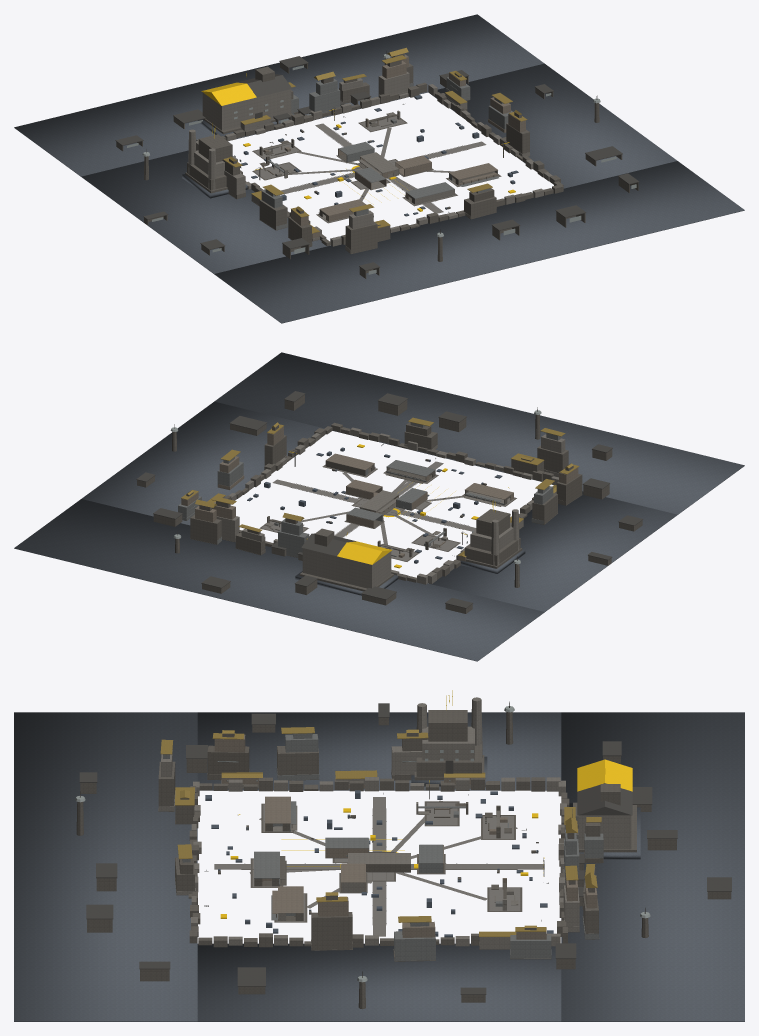
Rendered from kuko-lod1.glb.
3 views of the same model, one above another, from view 1: azimuth 30°, elevation 25°; view 2: azimuth 150°, elevation 25°; view 3: azimuth 270°, elevation 25° (orthographic). The views are drawn at different scales.
Parts seen in each view (by area): view 1: HB_kuko_LOD1_terrain, HB_kuko_LOD1_wall_alt, HB_kuko_LOD1_wall, HB_kuko_LOD1_wall_cool, HB_kuko_LOD1_wall_warm, HB_kuko_LOD1_road, HB_kuko_LOD1_trim, HB_kuko_LOD1_LANDMARK_0_wall, HB_kuko_LOD1_roof, HB_kuko_LOD1_LANDMARK_1_wall_alt, HB_kuko_LOD1_wall_weathered, HB_kuko_LOD1_LANDMARK_1_wall (+4 smaller); view 2: HB_kuko_LOD1_terrain, HB_kuko_LOD1_wall_alt, HB_kuko_LOD1_wall_cool, HB_kuko_LOD1_wall, HB_kuko_LOD1_wall_warm, HB_kuko_LOD1_trim, HB_kuko_LOD1_road, HB_kuko_LOD1_LANDMARK_0_wall, HB_kuko_LOD1_wall_weathered, HB_kuko_LOD1_roof, HB_kuko_LOD1_LANDMARK_1_wall_alt, HB_kuko_LOD1_LANDMARK_1_wall (+4 smaller); view 3: HB_kuko_LOD1_terrain, HB_kuko_LOD1_wall_alt, HB_kuko_LOD1_wall, HB_kuko_LOD1_wall_cool, HB_kuko_LOD1_road, HB_kuko_LOD1_trim, HB_kuko_LOD1_wall_warm, HB_kuko_LOD1_roof, HB_kuko_LOD1_wall_weathered, HB_kuko_LOD1_LANDMARK_1_wall_alt, HB_kuko_LOD1_LANDMARK_1_wall, HB_kuko_LOD1_LANDMARK_0_wall (+4 smaller).
Part boxes in pixels (<box>): HB_kuko_LOD1_terrain: <box>14,14,744,323</box>; HB_kuko_LOD1_wall_alt: <box>116,53,638,278</box>; HB_kuko_LOD1_wall: <box>196,71,552,253</box>; HB_kuko_LOD1_wall_cool: <box>261,77,512,230</box>; HB_kuko_LOD1_wall_warm: <box>261,54,525,240</box>; HB_kuko_LOD1_road: <box>252,116,501,222</box>; HB_kuko_LOD1_trim: <box>115,51,639,270</box>; HB_kuko_LOD1_LANDMARK_0_wall: <box>202,89,291,130</box>; HB_kuko_LOD1_roof: <box>223,47,527,233</box>; HB_kuko_LOD1_LANDMARK_1_wall_alt: <box>185,134,242,193</box>; HB_kuko_LOD1_wall_weathered: <box>259,76,494,242</box>; HB_kuko_LOD1_LANDMARK_1_wall: <box>188,129,237,189</box>; HB_kuko_LOD1_terrain: <box>14,352,744,661</box>; HB_kuko_LOD1_wall_alt: <box>137,394,642,613</box>; HB_kuko_LOD1_wall_cool: <box>178,422,560,557</box>; HB_kuko_LOD1_wall: <box>216,427,565,584</box>; HB_kuko_LOD1_wall_warm: <box>181,426,578,561</box>; HB_kuko_LOD1_trim: <box>136,391,643,608</box>; HB_kuko_LOD1_road: <box>259,461,516,561</box>; HB_kuko_LOD1_LANDMARK_0_wall: <box>302,548,391,588</box>; HB_kuko_LOD1_wall_weathered: <box>247,422,582,557</box>; HB_kuko_LOD1_roof: <box>181,417,579,557</box>; HB_kuko_LOD1_LANDMARK_1_wall_alt: <box>464,509,522,568</box>; HB_kuko_LOD1_LANDMARK_1_wall: <box>470,509,519,565</box>; HB_kuko_LOD1_terrain: <box>14,712,744,1021</box>; HB_kuko_LOD1_wall_alt: <box>76,712,731,1009</box>; HB_kuko_LOD1_wall: <box>158,746,595,949</box>; HB_kuko_LOD1_wall_cool: <box>163,733,603,960</box>; HB_kuko_LOD1_road: <box>214,797,544,936</box>; HB_kuko_LOD1_trim: <box>79,701,731,994</box>; HB_kuko_LOD1_wall_warm: <box>214,734,597,960</box>; HB_kuko_LOD1_roof: <box>160,727,601,936</box>; HB_kuko_LOD1_wall_weathered: <box>179,745,603,920</box>; HB_kuko_LOD1_LANDMARK_1_wall_alt: <box>414,710,484,780</box>; HB_kuko_LOD1_LANDMARK_1_wall: <box>416,697,482,760</box>; HB_kuko_LOD1_LANDMARK_0_wall: <box>578,815,631,849</box>.
Size of the model in its own units: 677 by 85.87 by 676.
12 materials, 11 textured.
